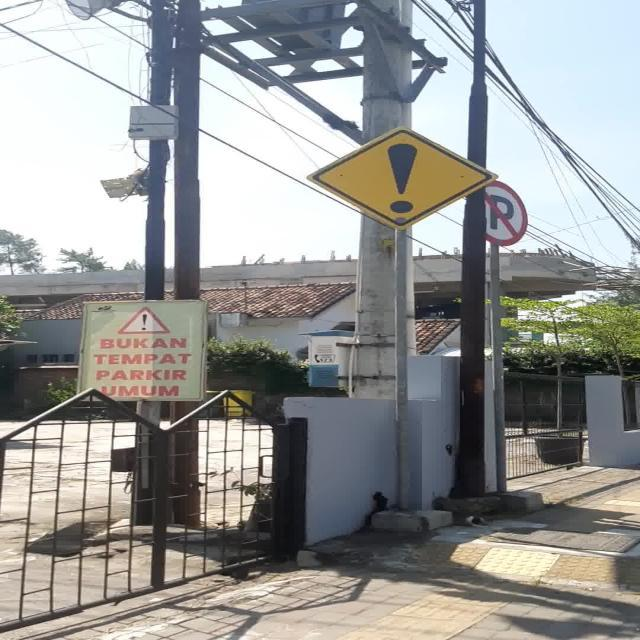Hati-Hati: (306, 127, 498, 229)
